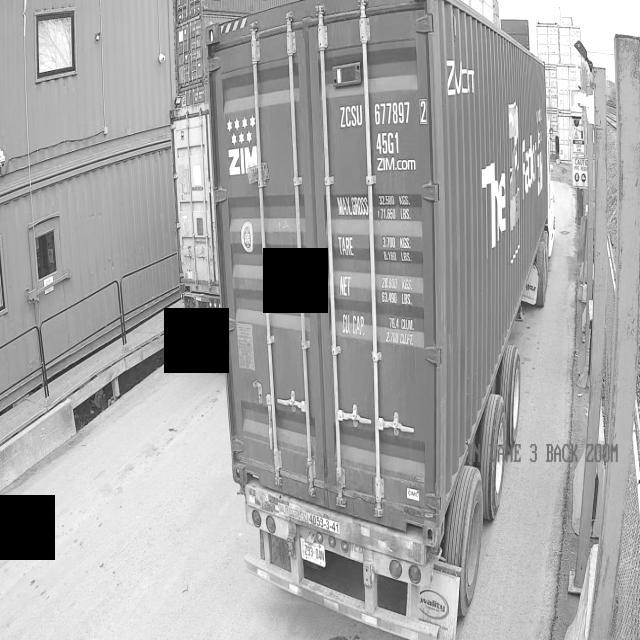container_company_logo: (219, 115, 283, 188)
container_number: (336, 93, 428, 154)
license_plate: (294, 529, 341, 574)
other_container_info: (332, 182, 432, 364)
truck_with_container: (208, 0, 555, 640)
